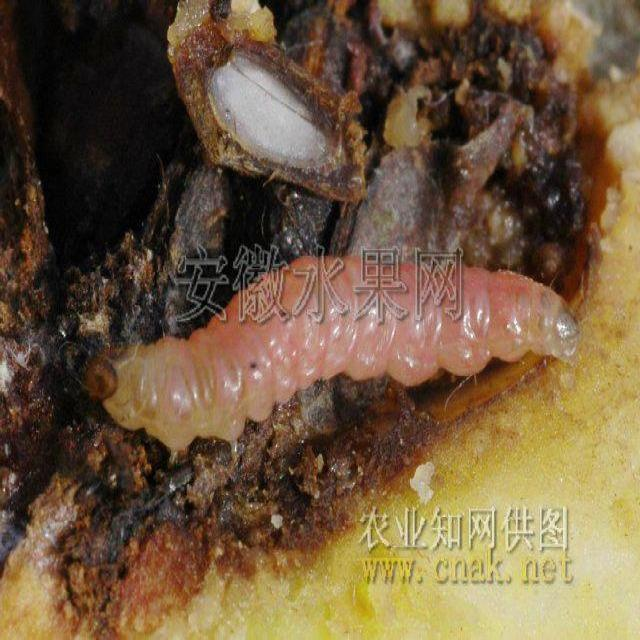peach borer: (88, 242, 585, 455)
